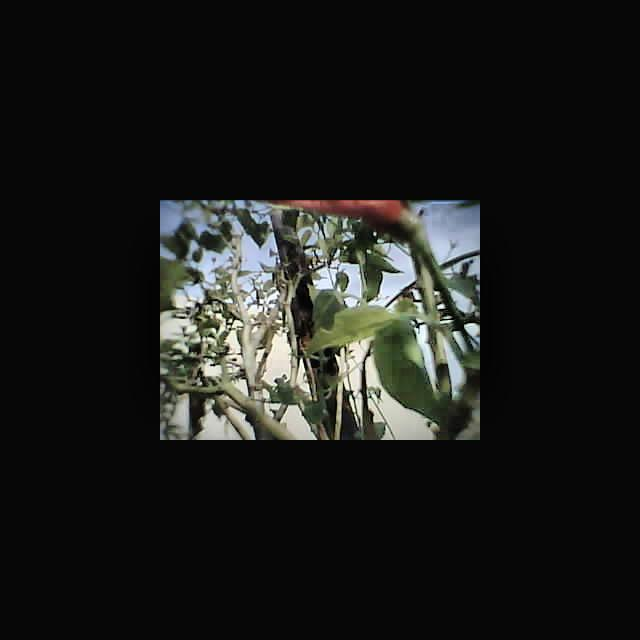Cabai: (268, 200, 428, 237)
